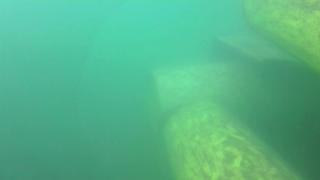pipe: (159, 100, 304, 180), (145, 64, 246, 129), (240, 1, 320, 77)
station: (215, 32, 319, 123)
